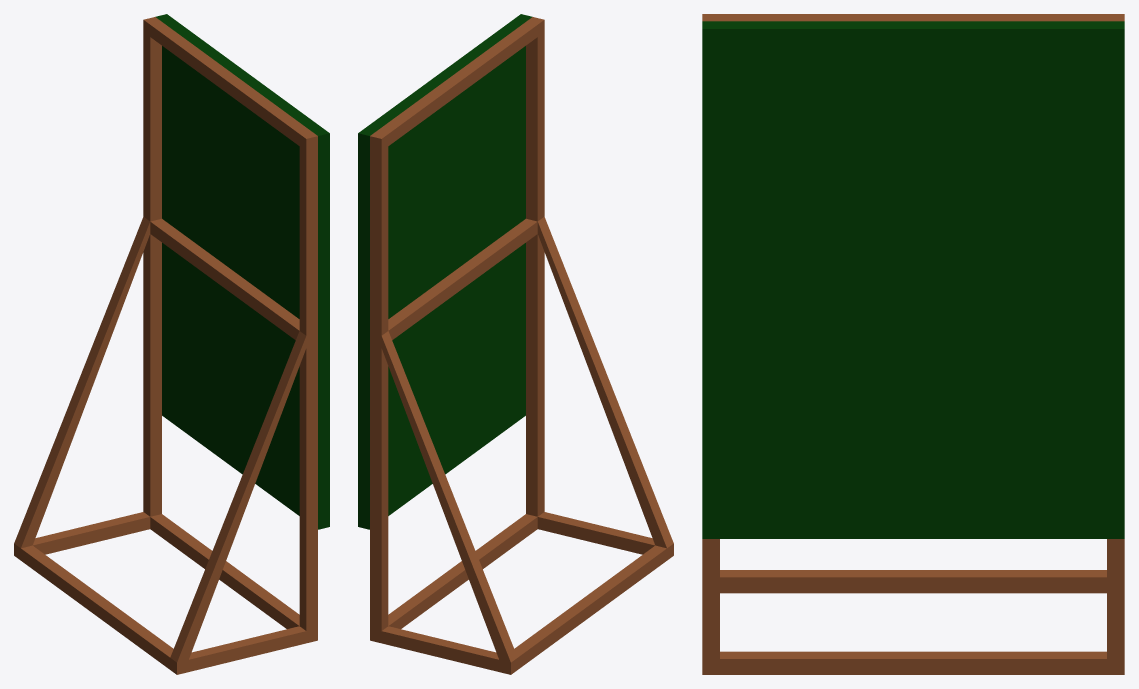
The model's file is TentBoard.fbx.
3 views of the same model, side by side, from view 1: azimuth 30°, elevation 25°; view 2: azimuth 150°, elevation 25°; view 3: azimuth 270°, elevation 25° (orthographic). The views are drawn at different scales.
Visible parts, largest first — view 1: Board, Leg.001; view 2: Board, Leg.001; view 3: Board, Leg.001.
Part boxes in pixels (x1,y1,x2,y2): Board: (155,14,329,529); Leg.001: (14,17,317,674); Board: (358,14,532,529); Leg.001: (370,17,673,674); Board: (702,21,1124,538); Leg.001: (702,14,1124,674).
Bounding box in the file's own units: 325 × 1025 × 600.
